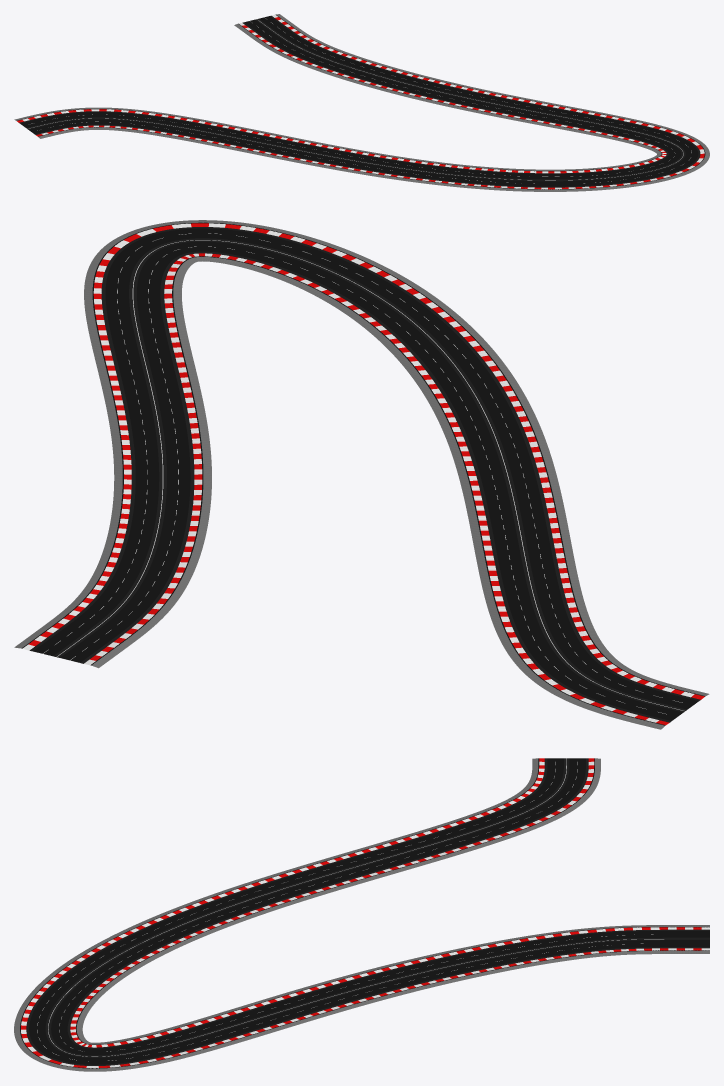
The model's file is S0.2l1-mue.glb.
The picture shows the model from 3 angles, top to bottom: view 1: azimuth 30°, elevation 25°; view 2: azimuth 150°, elevation 25°; view 3: azimuth 270°, elevation 25°; orthographic projection. The views are drawn at different scales.
Visible parts, largest first — view 1: Grid; view 2: Grid; view 3: Grid.
Part boxes in pixels (bbox=[...]): Grid: bbox=[14, 14, 709, 191]; Grid: bbox=[14, 220, 709, 729]; Grid: bbox=[14, 758, 709, 1071].
Size of the model in its own units: 269 by 0.31 by 253.
